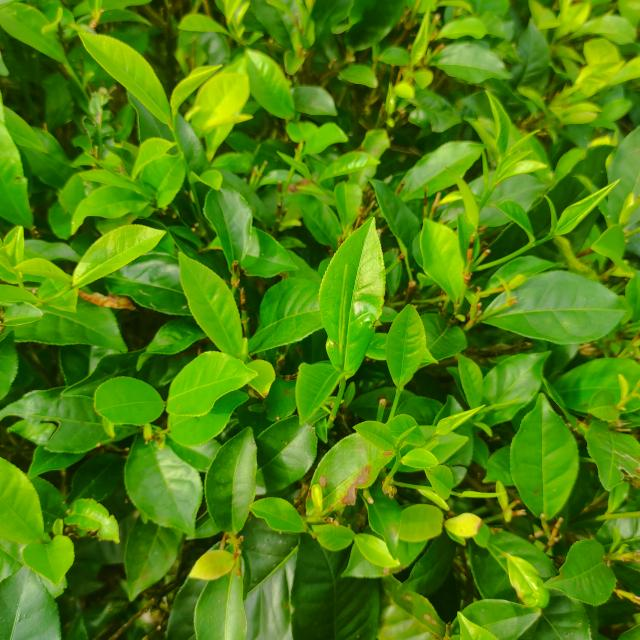unopened_leaf: (332, 256, 356, 370), (498, 120, 550, 162), (80, 149, 135, 183), (538, 189, 562, 239)
